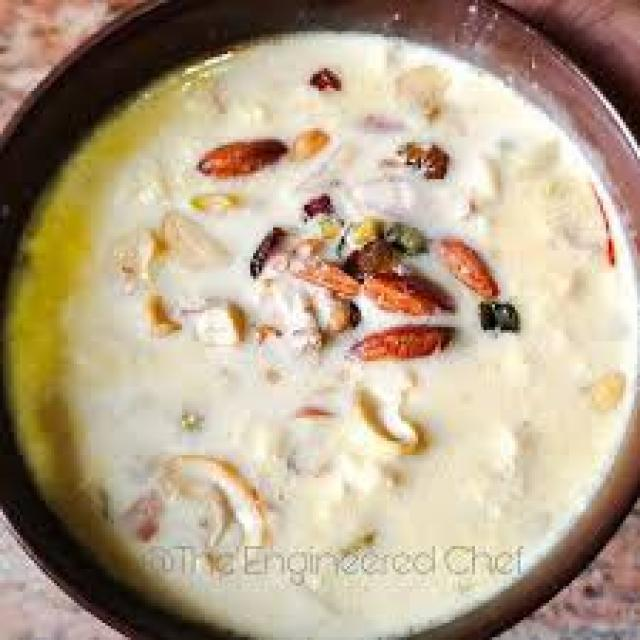Kheer: (6, 68, 640, 623)
